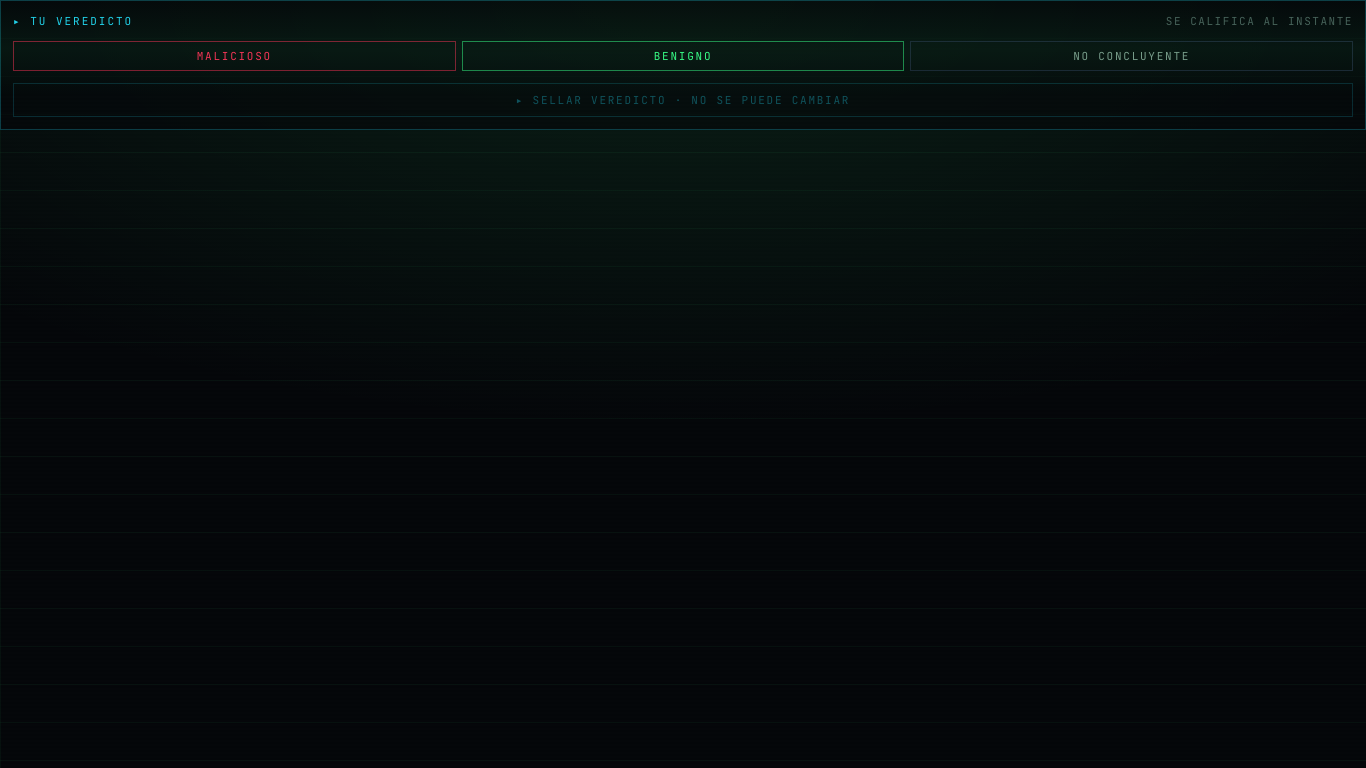
Test case: VerdictPanel › muestra cuánto se gana y cuánto se pierde
Click the radio button labelled "malicioso" at (234, 56), box [13,41,456,71]
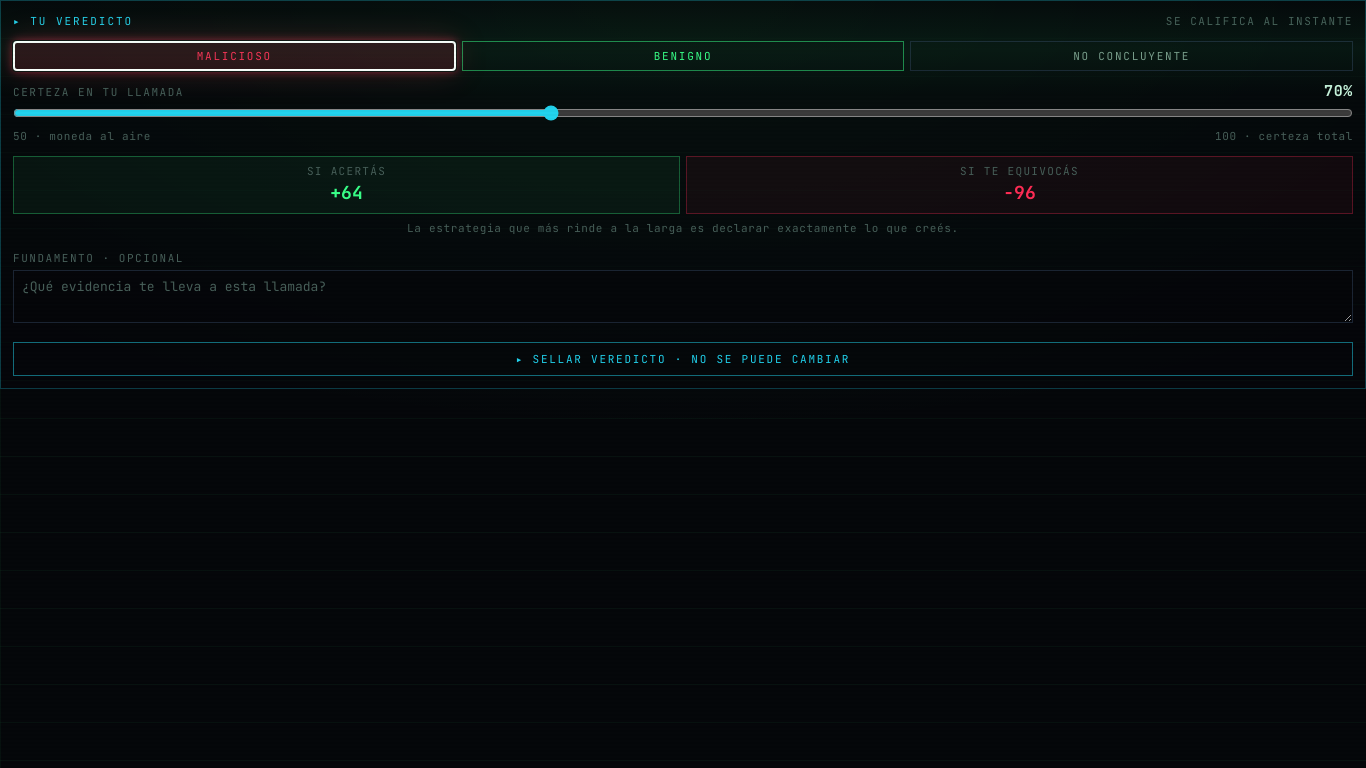
Now the element with test id "vista-previa-pago" shows "+64", box [13,156,1353,238]
Now the element with test id "vista-previa-pago" shows "-96", box [1003,181,1036,204]
